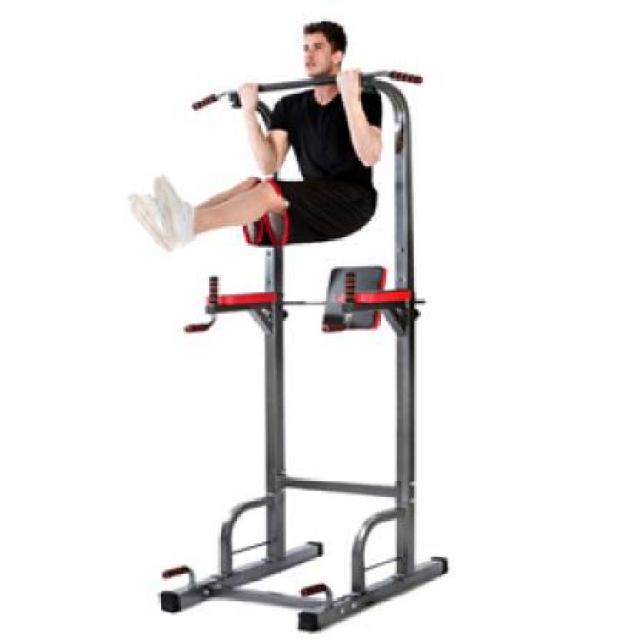chinning dipping: (194, 69, 446, 634)
